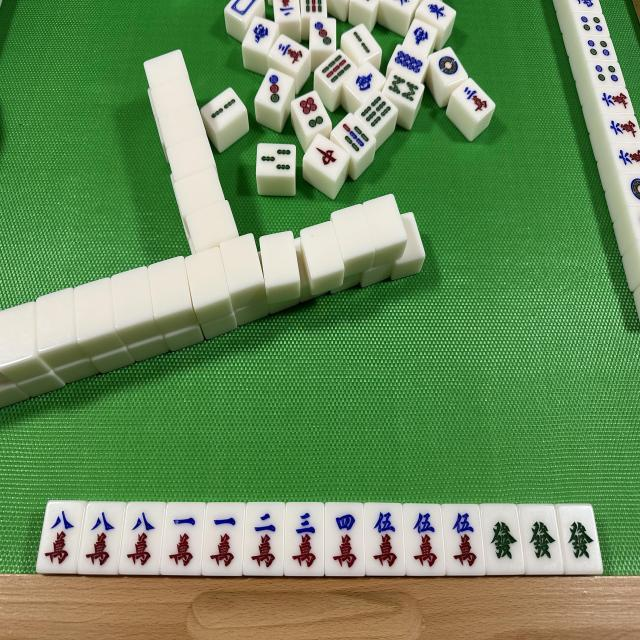hdg: (483, 508, 518, 575), (522, 510, 558, 569), (564, 519, 594, 566)
sc1: (206, 504, 242, 576), (166, 504, 200, 576)
sc2: (246, 504, 284, 576)
sc3: (286, 502, 324, 575)
sc4: (324, 502, 366, 576)
sc5: (365, 504, 402, 576), (444, 506, 482, 574), (404, 506, 439, 574)
sc8: (125, 504, 158, 574), (44, 502, 76, 572), (85, 504, 116, 574)
